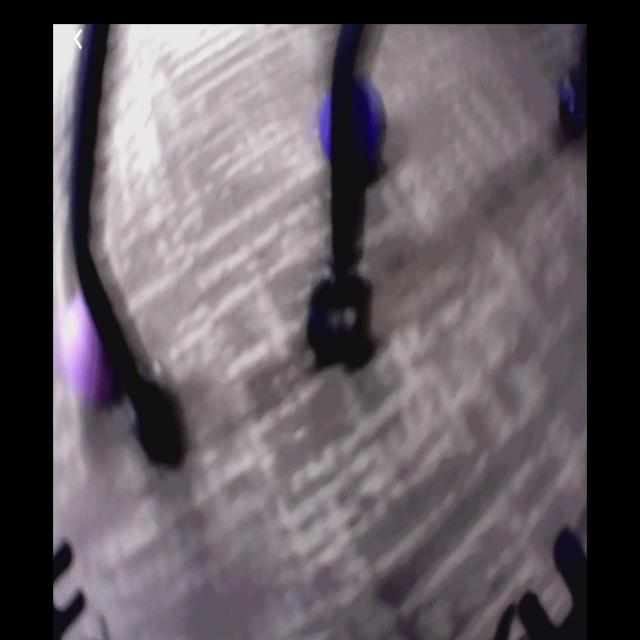ball: (65, 295, 123, 409), (323, 83, 394, 171)
